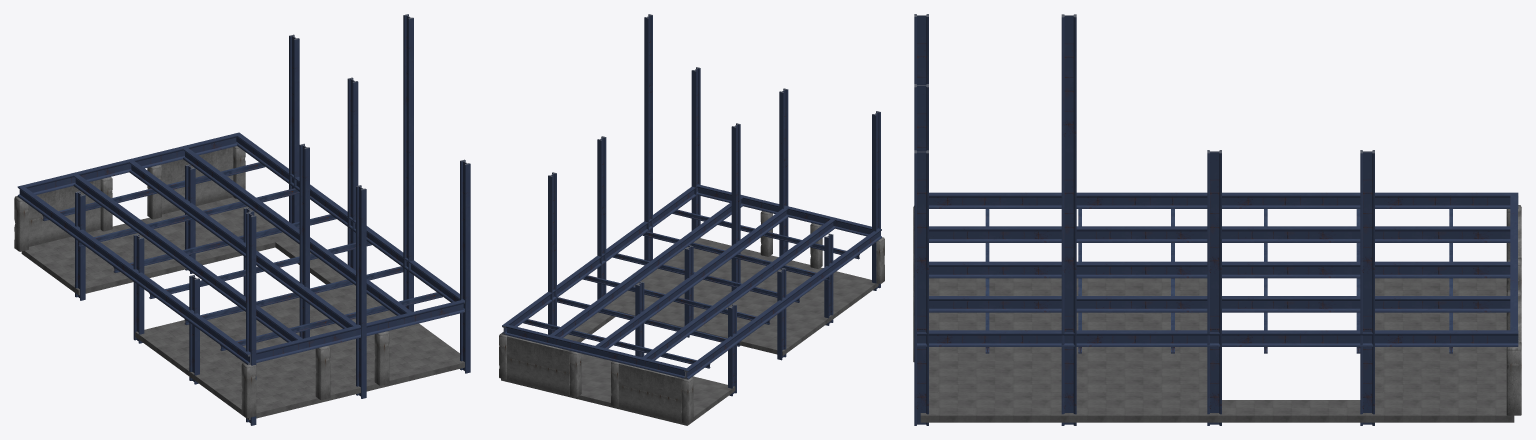
The model's file is BuildingMap_3_0.gltf.
3 views of the same model, side by side, from view 1: azimuth 30°, elevation 25°; view 2: azimuth 150°, elevation 25°; view 3: azimuth 270°, elevation 25° (orthographic). The views are drawn at different scales.
Parts seen in each view (by area): view 1: SM_Floors_Thick_94, SM_Floors_Thick_76, SM_Floors_Thick_93, SM_Floors_Thick_88, SM_Floors_Thick_75, SM_BP_WallCon_6x15, SM_BP_WallCon_6x10, SM_Floors_Thick_87, SM_Building_Pieces_2_SteelRudder48, SM_Building_Pieces_2_SteelRudder49, SM_Building_Pieces_2_SteelRudder43, SM_Building_Pieces_2_SteelRudder44 (+55 smaller); view 2: SM_Floors_Thick_88, SM_BP_WallCon_6x15, SM_BP_WallCon_6x10, SM_Floors_Thick_94, SM_Floors_Thick_87, SM_Floors_Thick_93, SM_Floors_Thick_75, SM_Floors_Thick_76, SM_Building_Pieces_2_SteelRudder43, SM_Building_Pieces_2_SteelRudder44, SM_Building_Pieces_2_SteelRudder49, SM_Building_Pieces_2_SteelRudder114 (+55 smaller); view 3: SM_Floors_Thick_93, SM_Floors_Thick_75, SM_Floors_Thick_87, SM_Floors_Thick_94, SM_Floors_Thick_76, SM_Floors_Thick_88, SM_Building_Pieces_2_SteelRudder57, SM_Building_Pieces_2_SteelRudder42, SM_Building_Pieces_2_SteelRudder41, SM_Building_Pieces_2_SteelRudder61, SM_Building_Pieces_2_SteelRudder40, SM_Building_Pieces_2_SteelRudder53 (+42 smaller).
Boxes of the visible parts, x1,y1,x2,y2 form: SM_Floors_Thick_94: (192, 353, 347, 420); SM_Floors_Thick_76: (21, 225, 176, 295); SM_Floors_Thick_93: (296, 329, 445, 396); SM_Floors_Thick_88: (135, 312, 281, 378); SM_Floors_Thick_75: (120, 201, 275, 271); SM_BP_WallCon_6x15: (28, 179, 100, 246); SM_BP_WallCon_6x10: (160, 147, 233, 214); SM_Floors_Thick_87: (240, 288, 380, 343); SM_Building_Pieces_2_SteelRudder48: (355, 300, 464, 338); SM_Building_Pieces_2_SteelRudder49: (256, 326, 357, 362); SM_Building_Pieces_2_SteelRudder43: (127, 133, 237, 170); SM_Building_Pieces_2_SteelRudder44: (23, 160, 129, 194); SM_Floors_Thick_88: (700, 296, 830, 355); SM_BP_WallCon_6x15: (618, 363, 682, 422); SM_BP_WallCon_6x10: (507, 336, 570, 394); SM_Floors_Thick_94: (748, 261, 878, 320); SM_Floors_Thick_87: (617, 276, 747, 331); SM_Floors_Thick_93: (665, 241, 795, 296); SM_Floors_Thick_75: (521, 353, 611, 405); SM_Floors_Thick_76: (604, 376, 735, 425); SM_Building_Pieces_2_SteelRudder43: (506, 325, 598, 356); SM_Building_Pieces_2_SteelRudder44: (596, 347, 686, 378); SM_Building_Pieces_2_SteelRudder49: (788, 207, 871, 236); SM_Building_Pieces_2_SteelRudder114: (597, 136, 606, 228); SM_Floors_Thick_93: (929, 347, 1061, 399); SM_Floors_Thick_75: (1375, 347, 1506, 399); SM_Floors_Thick_87: (1076, 347, 1207, 399); SM_Floors_Thick_94: (929, 278, 1061, 330); SM_Floors_Thick_76: (1375, 278, 1506, 330); SM_Floors_Thick_88: (1076, 278, 1207, 330); SM_Building_Pieces_2_SteelRudder57: (1351, 261, 1510, 278); SM_Building_Pieces_2_SteelRudder42: (1368, 330, 1518, 346); SM_Building_Pieces_2_SteelRudder41: (1217, 330, 1368, 346); SM_Building_Pieces_2_SteelRudder61: (1351, 226, 1510, 242); SM_Building_Pieces_2_SteelRudder40: (1067, 330, 1217, 346); SM_Building_Pieces_2_SteelRudder53: (1351, 296, 1510, 312).
Bounding box in the file's own units: 18.4 × 24.32 × 32.8.
Materials: 3 (3 with a texture image).
